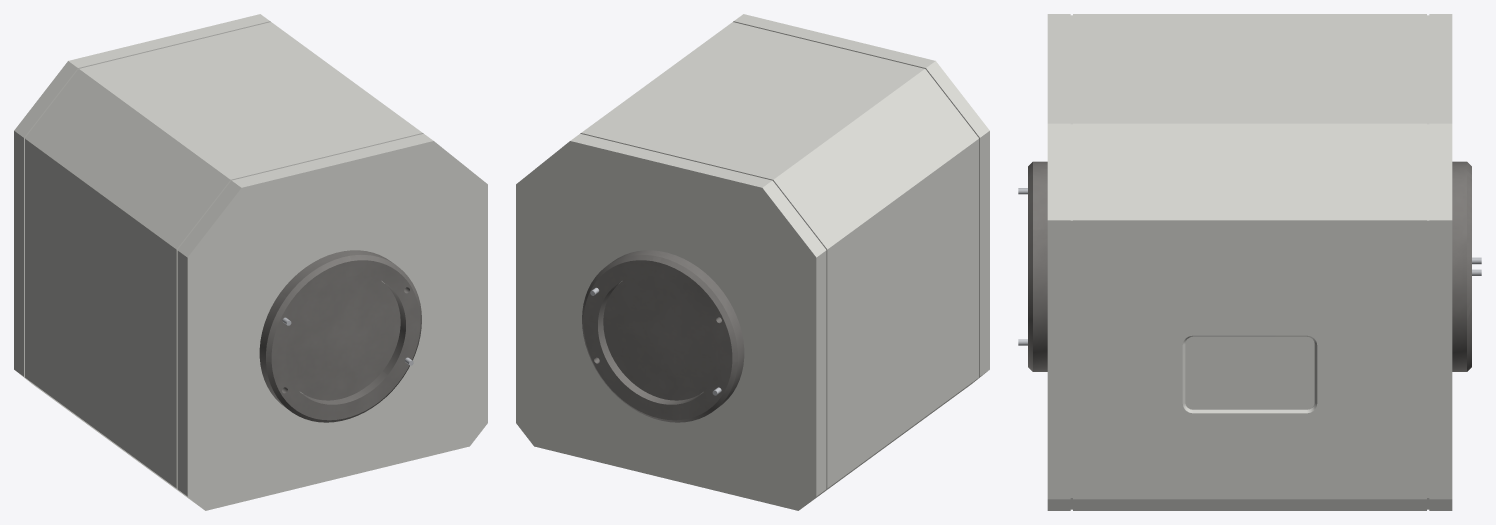
The model's file is ax_rover_08_mid_cargo.glb.
3 renders of one model, left to right at view 1: azimuth 30°, elevation 25°; view 2: azimuth 150°, elevation 25°; view 3: azimuth 270°, elevation 25°, orthographic. The views are drawn at different scales.
Parts seen in each view (by area): view 1: hub_shell, hatch_door_1, hub_ring_front; view 2: hub_shell, hatch_door_2, hub_ring_rear; view 3: hub_shell, hub_ring_front, hub_ring_rear.
Part boxes in pixels (<box>): hub_shell: <box>14,14,487,510</box>; hatch_door_1: <box>286,275,400,400</box>; hub_ring_front: <box>259,250,421,422</box>; hub_shell: <box>516,14,989,510</box>; hatch_door_2: <box>603,275,717,400</box>; hub_ring_rear: <box>582,250,744,422</box>; hub_shell: <box>1047,14,1452,510</box>; hub_ring_front: <box>1028,161,1047,371</box>; hub_ring_rear: <box>1452,161,1471,371</box>.
Size of the model in its own units: 2.5 by 2.56 by 2.86.
Materials: 3 (2 with a texture image).
